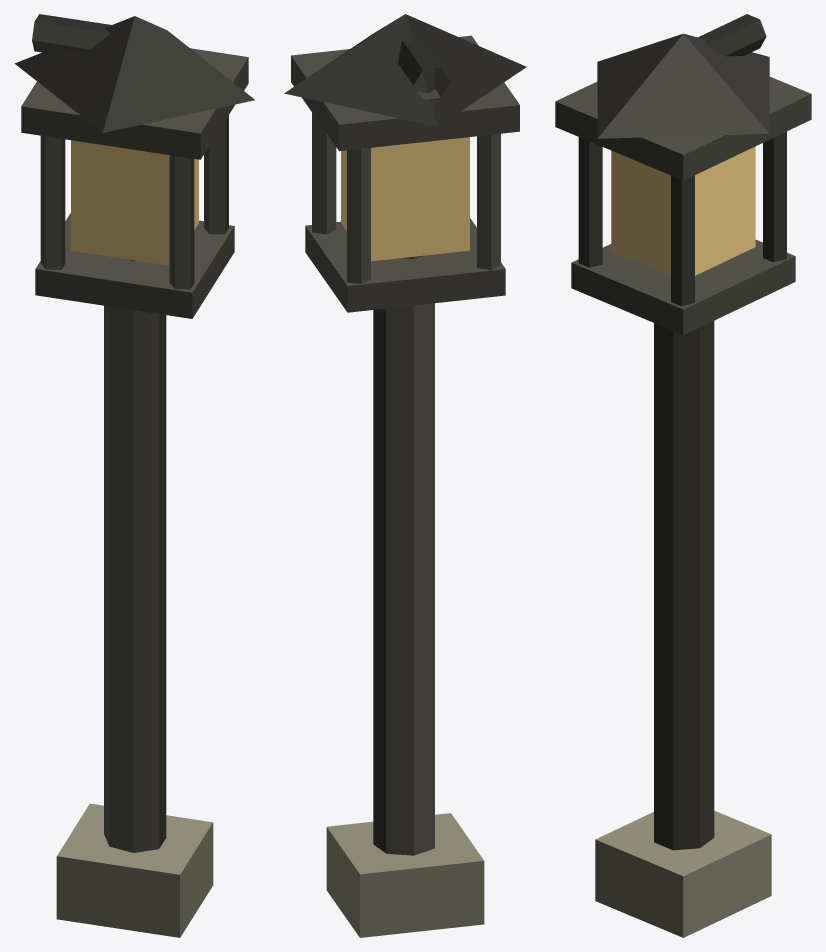
The picture shows the model from 3 angles, left to right: view 1: azimuth 30°, elevation 25°; view 2: azimuth 150°, elevation 25°; view 3: azimuth 270°, elevation 25°; orthographic projection. The views are drawn at different scales.
Parts seen in each view (by area): view 1: 2694b537c3103698059e0b7ff3d0d6502aac41d1afcd76dfd123c426e0b9; view 2: 2694b537c3103698059e0b7ff3d0d6502aac41d1afcd76dfd123c426e0b9; view 3: 2694b537c3103698059e0b7ff3d0d6502aac41d1afcd76dfd123c426e0b9.
Part boxes in pixels (left/top/right/bottom): 2694b537c3103698059e0b7ff3d0d6502aac41d1afcd76dfd123c426e0b9: left=14, top=14, right=254, bottom=937; 2694b537c3103698059e0b7ff3d0d6502aac41d1afcd76dfd123c426e0b9: left=284, top=14, right=526, bottom=937; 2694b537c3103698059e0b7ff3d0d6502aac41d1afcd76dfd123c426e0b9: left=555, top=14, right=811, bottom=937.
Bounding box in the file's own units: 0.9051 × 3.38 × 0.9051.
Materials: 2 (1 with a texture image).
